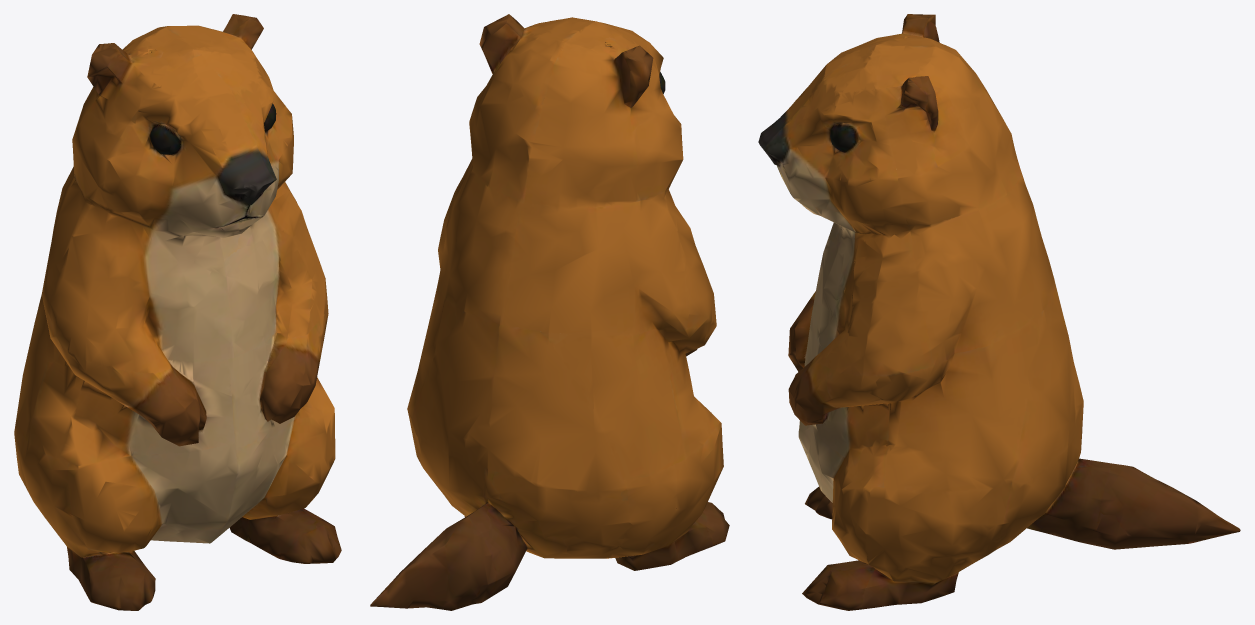
File: swistak.glb
The picture shows the model from 3 angles, left to right: view 1: azimuth 30°, elevation 25°; view 2: azimuth 150°, elevation 25°; view 3: azimuth 270°, elevation 25°; orthographic projection. The views are drawn at different scales.
Visible parts, largest first — view 1: tripo_node_2dbef354-237b-4fac-b75a-1cc1c20da15c; view 2: tripo_node_2dbef354-237b-4fac-b75a-1cc1c20da15c; view 3: tripo_node_2dbef354-237b-4fac-b75a-1cc1c20da15c.
Boxes of the visible parts, x1,y1,x2,y2 form: tripo_node_2dbef354-237b-4fac-b75a-1cc1c20da15c: [14, 14, 341, 610]; tripo_node_2dbef354-237b-4fac-b75a-1cc1c20da15c: [370, 14, 729, 610]; tripo_node_2dbef354-237b-4fac-b75a-1cc1c20da15c: [758, 14, 1240, 610].
Bounding box in the file's own units: 0.5472 × 0.9797 × 0.8449.
1 material, 1 textured.
